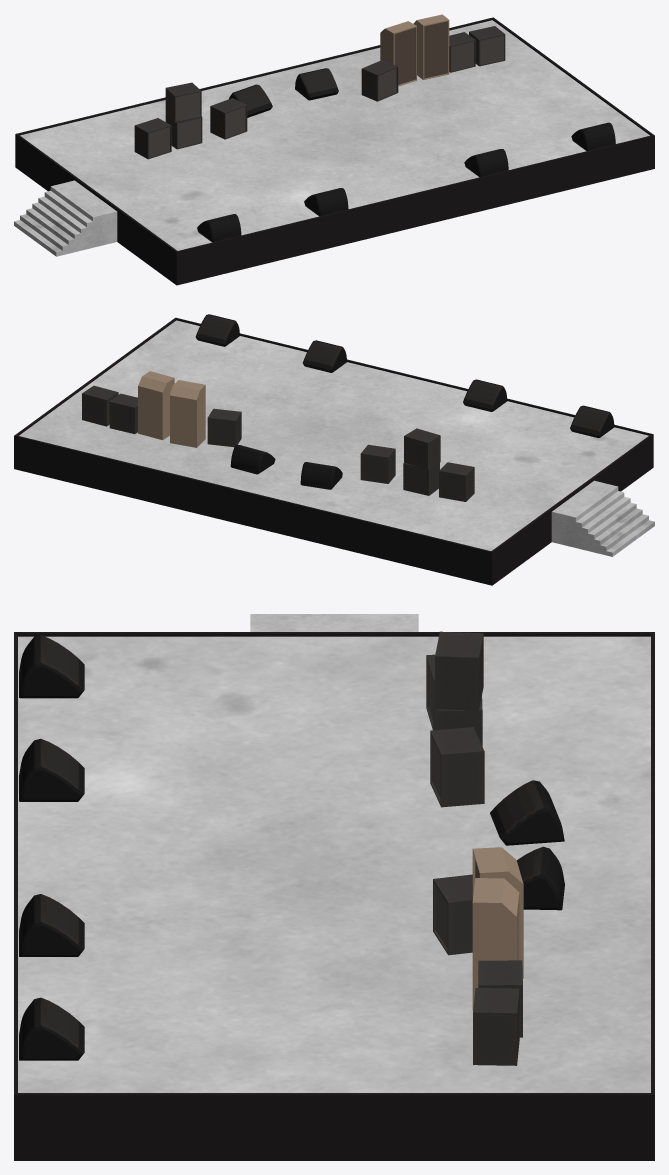
The model's file is stage.fbx.
3 renders of one model, top to bottom at view 1: azimuth 30°, elevation 25°; view 2: azimuth 150°, elevation 25°; view 3: azimuth 270°, elevation 25°, orthographic. The views are drawn at different scales.
Parts seen in each view (by area): view 1: stage; view 2: stage; view 3: stage.
Boxes of the visible parts, left/top/right/bottom form: stage: left=14, top=14, right=654, bottom=285; stage: left=14, top=314, right=654, bottom=585; stage: left=14, top=614, right=654, bottom=1160.
Bounding box in the file's own units: 6.96 × 1.06 × 3.61.
Materials: 1 (1 with a texture image).
